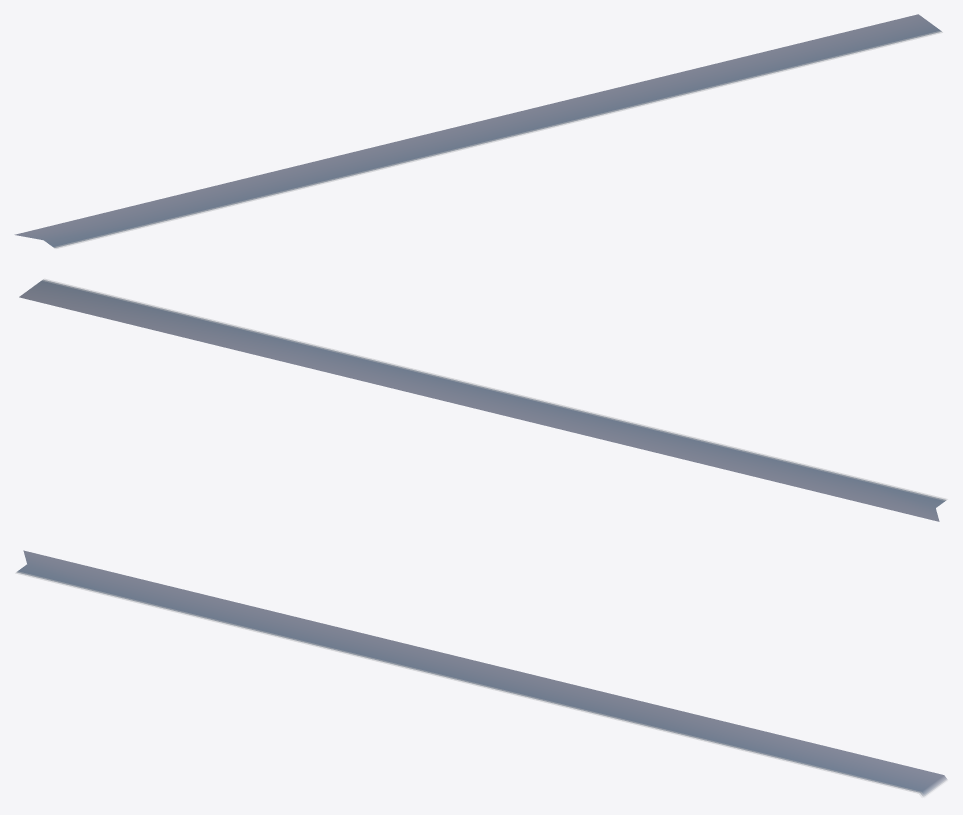
3 views of the same model, one above another, from view 1: azimuth 30°, elevation 25°; view 2: azimuth 150°, elevation 25°; view 3: azimuth 330°, elevation 25° (orthographic).
Visible parts, largest first — view 1: Joint_0_Object_0; view 2: Joint_0_Object_0; view 3: Joint_0_Object_0.
Part boxes in pixels (left/top/right/bottom): Joint_0_Object_0: left=15, top=14, right=941, bottom=247; Joint_0_Object_0: left=19, top=279, right=946, bottom=521; Joint_0_Object_0: left=16, top=550, right=946, bottom=796.
Size of the model in its own units: 3851 by 19.95 by 190.
Materials: 1 (1 with a texture image).
